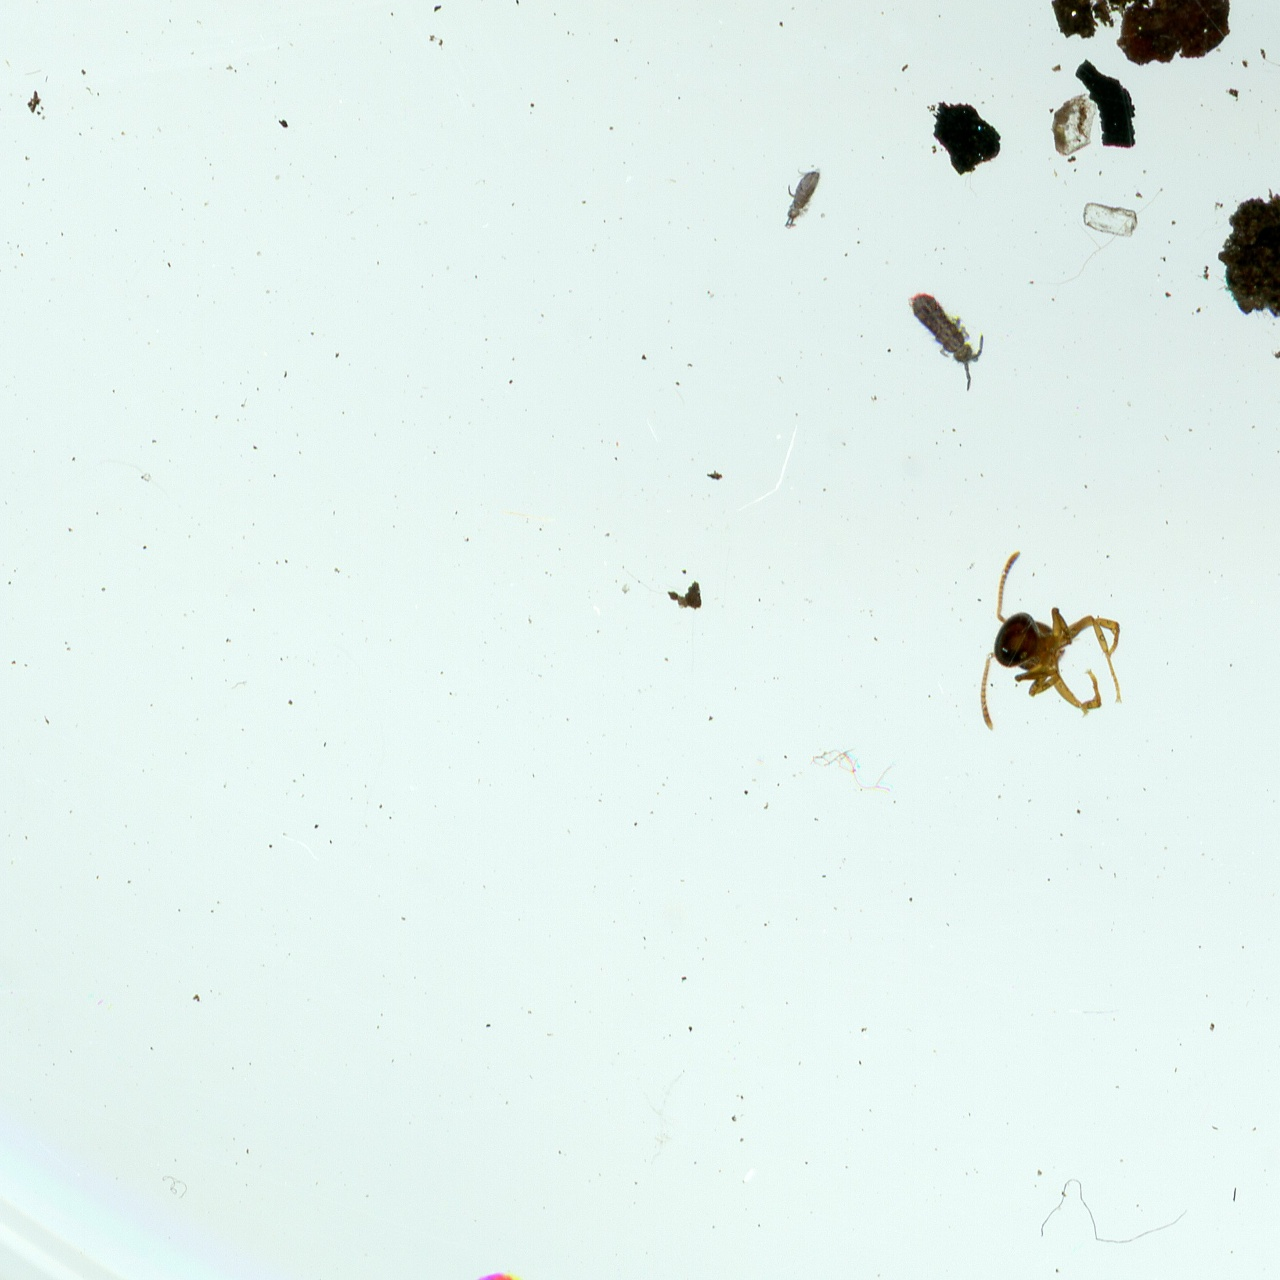arthropod: (975, 545, 1128, 734), (892, 272, 1010, 397), (771, 156, 830, 237), (440, 1264, 531, 1280)
